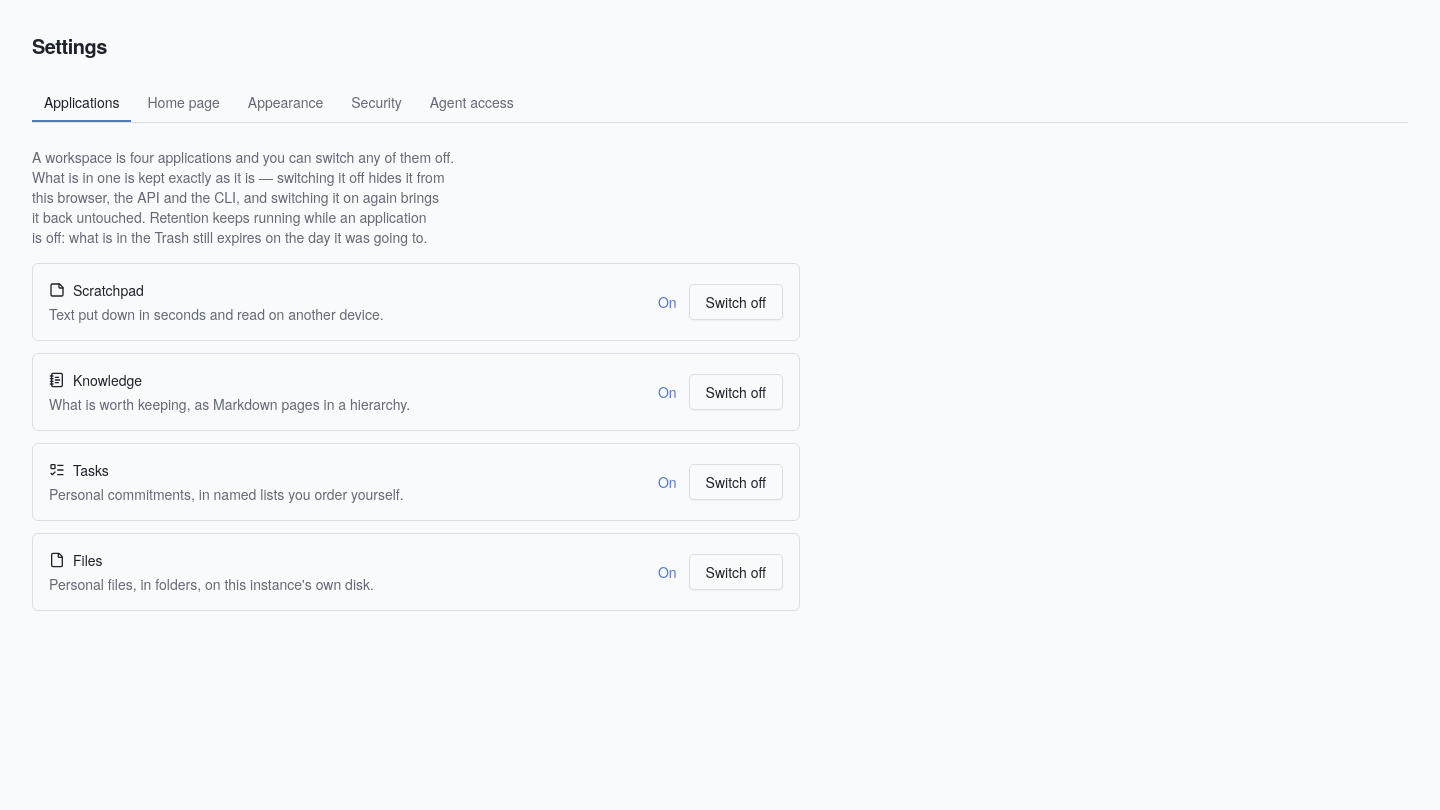
Test case: the application switches › says so when somebody switched it somewhere else first, and reads it again
Click the button with aria-label "Switch off Knowledge" at (736, 392), box [689,374,783,410]
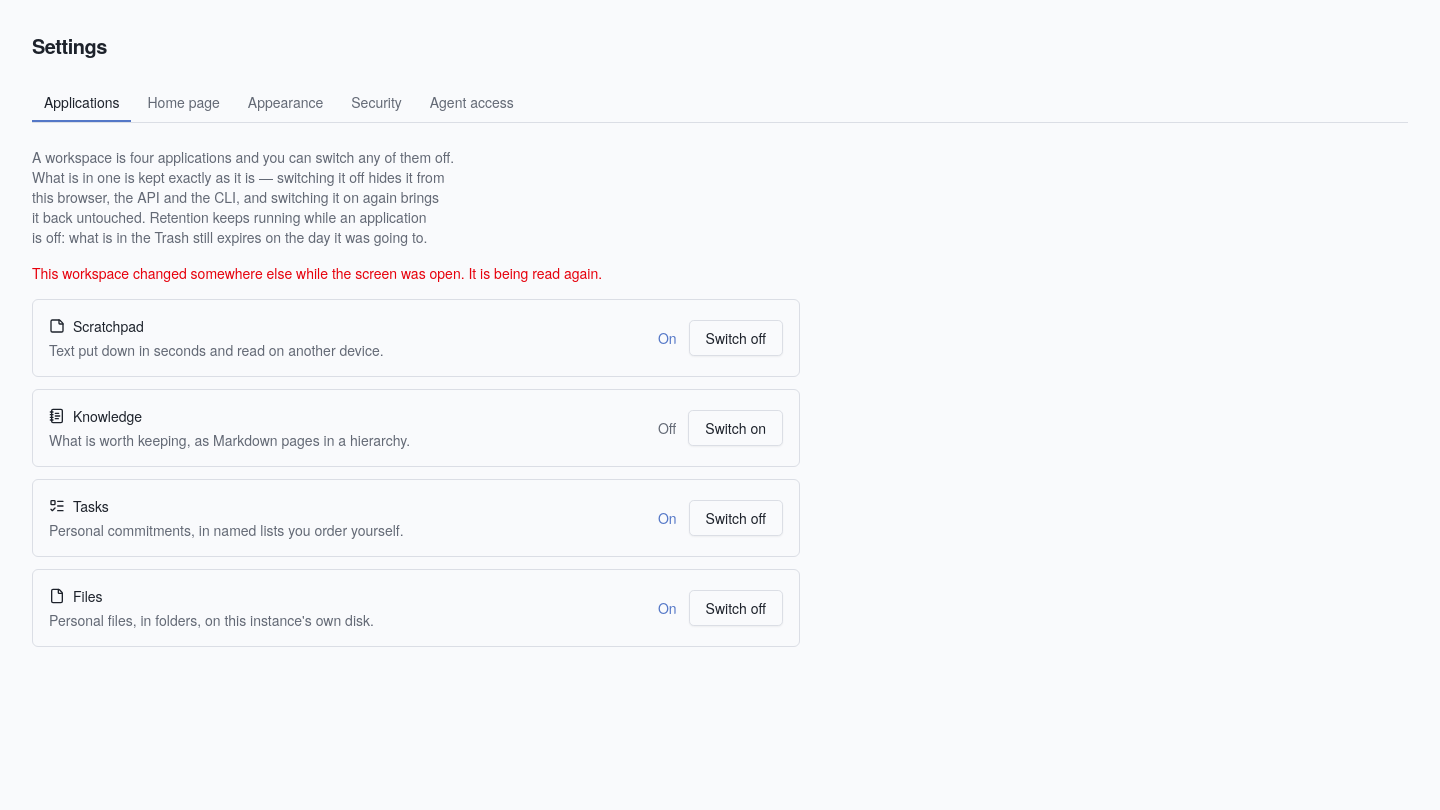
Expected: the text "Off" is shown, [658,418,676,438]
Now the message shows "changed somewhere else", box [32,263,602,283]
